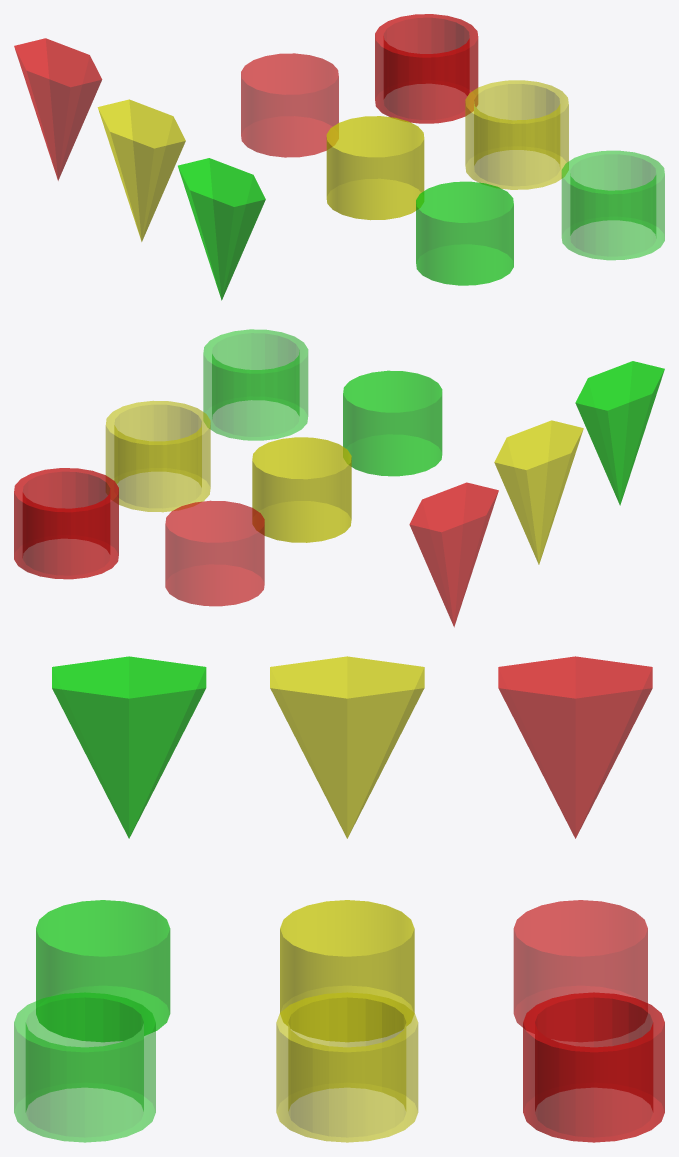
The model's file is ivanoh2.fbx.
3 renders of one model, top to bottom at view 1: azimuth 30°, elevation 25°; view 2: azimuth 150°, elevation 25°; view 3: azimuth 270°, elevation 25°, orthographic. The views are drawn at different scales.
Parts seen in each view (by area): view 1: pCylinder6, pCylinder4, pCylinder5, pCylinder1, pCylinder2, pCylinder3, pCone2, pCone3, pCone1; view 2: pCylinder6, pCylinder5, pCylinder4, pCylinder1, pCylinder2, pCylinder3, pCone1, pCone2, pCone3; view 3: pCylinder4, pCylinder5, pCylinder6, pCylinder1, pCylinder2, pCylinder3, pCone1, pCone3, pCone2.
Part boxes in pixels (<box>): pCylinder6: <box>561,150,664,260</box>; pCylinder4: <box>465,80,568,189</box>; pCylinder5: <box>375,14,478,123</box>; pCylinder1: <box>326,116,424,220</box>; pCylinder2: <box>416,181,513,285</box>; pCylinder3: <box>241,53,338,157</box>; pCone2: <box>178,158,265,300</box>; pCone3: <box>14,38,102,180</box>; pCone1: <box>97,99,185,241</box>; pCylinder6: <box>203,329,308,440</box>; pCylinder5: <box>14,468,118,579</box>; pCylinder4: <box>105,401,210,512</box>; pCylinder1: <box>252,437,351,542</box>; pCylinder2: <box>343,370,442,476</box>; pCylinder3: <box>165,500,264,606</box>; pCone1: <box>494,420,583,564</box>; pCone2: <box>575,361,664,505</box>; pCone3: <box>409,482,498,627</box>; pCylinder4: <box>276,992,418,1142</box>; pCylinder5: <box>523,992,664,1142</box>; pCylinder6: <box>14,992,155,1142</box>; pCylinder1: <box>280,900,414,1041</box>; pCylinder2: <box>36,900,170,1041</box>; pCylinder3: <box>513,900,647,1041</box>; pCone1: <box>270,656,424,838</box>; pCone3: <box>498,656,652,838</box>; pCone2: <box>52,656,206,838</box>.
Bounding box in the file's own units: 7.99 × 2.29 × 7.3.
